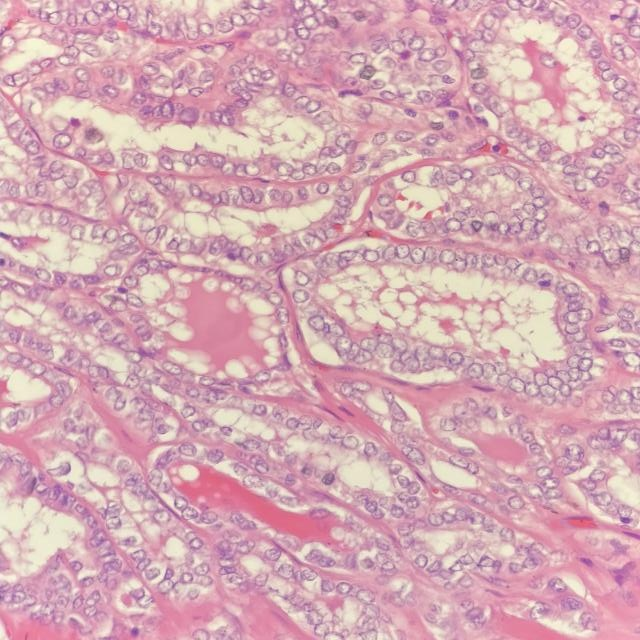TC: (302, 305, 336, 334), (304, 108, 341, 134), (327, 171, 367, 195), (446, 447, 481, 473), (278, 269, 317, 290), (386, 128, 423, 150), (372, 336, 404, 361), (429, 413, 465, 435), (357, 242, 385, 270), (435, 244, 462, 272), (138, 222, 166, 249), (269, 157, 299, 182), (291, 410, 321, 435), (268, 304, 298, 329), (441, 213, 475, 235), (460, 360, 487, 387), (173, 434, 202, 459), (422, 510, 454, 532), (251, 246, 279, 270), (373, 562, 403, 584), (327, 579, 357, 601), (405, 238, 427, 267), (399, 444, 425, 468), (373, 86, 400, 109), (121, 289, 148, 312), (236, 185, 264, 206), (157, 360, 189, 378), (215, 157, 240, 179), (200, 447, 226, 468), (338, 432, 364, 452), (192, 372, 217, 391), (249, 402, 274, 418)
